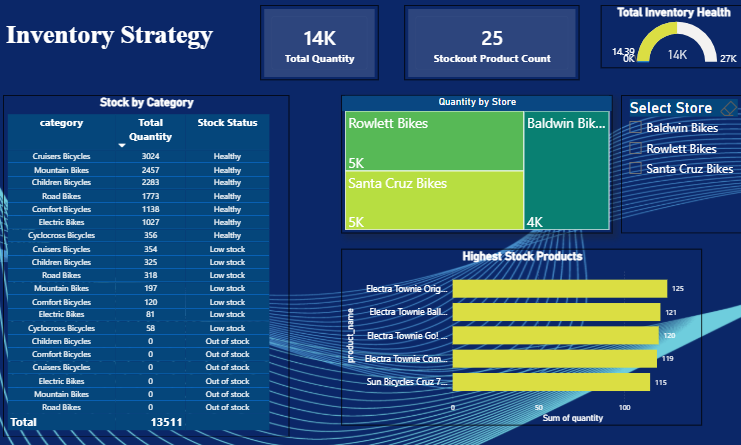

The dashboard page shown, as its layout file describes it:
{"tool":"powerbi","page":{"name":"Inventory Strategy","canvas":[1280,720],"ordinal":3},"visuals":[{"type":"tableEx","title":"Stock by Category","fields":{"Values":["categories.category_name","Sum(stocks.quantity)","stocks.Stock Status"]},"box":[15,150,476.7,570],"z":0},{"type":"treemap","title":"Quantity by Store","fields":{"Group":["stores.store_name"],"Values":["Sum(stocks.quantity)"]},"box":[578.3,150,451.7,230],"z":2},{"type":"clusteredBarChart","title":"Highest Stock Products","fields":{"Category":["products.product_name"],"Y":["Sum(stocks.quantity)"]},"box":[578.3,406.7,601.7,295],"z":3},{"type":"gauge","title":"Total Inventory Health","fields":{"Y":["Sum(stocks.quantity)"],"TargetValue":["Avg(stocks.quantity)"]},"box":[1011.7,0,241.7,105],"z":4},{"type":"textbox","box":[15,18.3,383.3,86.7],"z":5},{"type":"slicer","fields":{"Values":["stores.store_name"]},"box":[1045,150,208.3,230],"z":6},{"type":"cardVisual","fields":{"Data":["Sum(stocks.quantity)"]},"box":[443.3,0,196.7,125],"z":8},{"type":"cardVisual","fields":{"Data":["Key Measure.Stockout Product Count"]},"box":[683.3,0,291.7,125],"z":9}]}

Visuals, with their boxes on the page's 1280x720 design canvas (x1, y1, x2, y2). These are canvas units, not pixel positions in the 741x445 screenshot, which may show the page scaled, cropped or inside an application window:
"Stock by Category" tableEx: [left=15, top=150, right=492, bottom=720]
"Quantity by Store" treemap: [left=578, top=150, right=1030, bottom=380]
"Highest Stock Products" clusteredBarChart: [left=578, top=407, right=1180, bottom=702]
"Total Inventory Health" gauge: [left=1012, top=0, right=1253, bottom=105]
textbox: [left=15, top=18, right=398, bottom=105]
slicer - stores.store_name: [left=1045, top=150, right=1253, bottom=380]
cardVisual - Sum(stocks.quantity): [left=443, top=0, right=640, bottom=125]
cardVisual - Key Measure.Stockout Product Count: [left=683, top=0, right=975, bottom=125]
